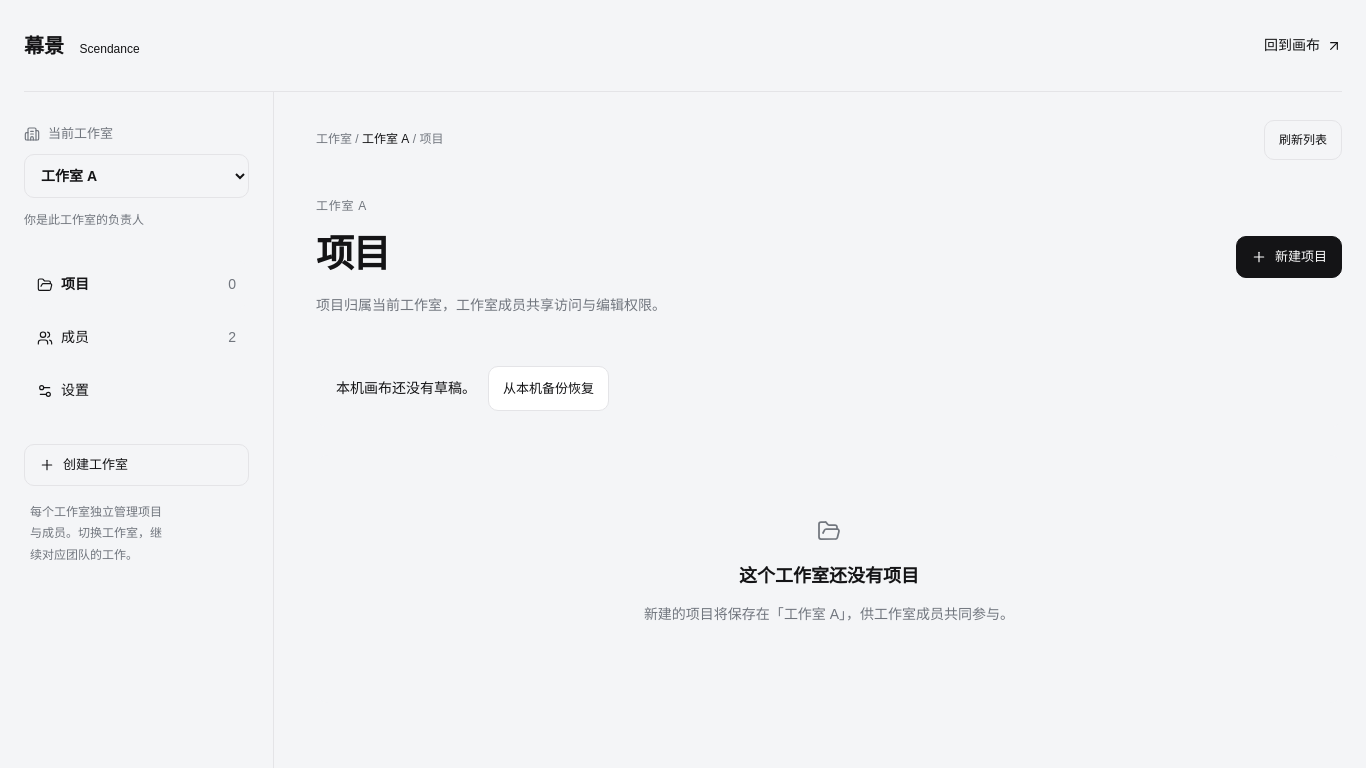
workspace management › selects an accessible studio before refreshing its member list
The width and height of the screenshot is (1366, 768).
Expected: the heading "这个工作室还没有项目" is shown, [739,566,919,586]
Click the button "刷新列表": (1303, 140) [1264,120,1342,160]
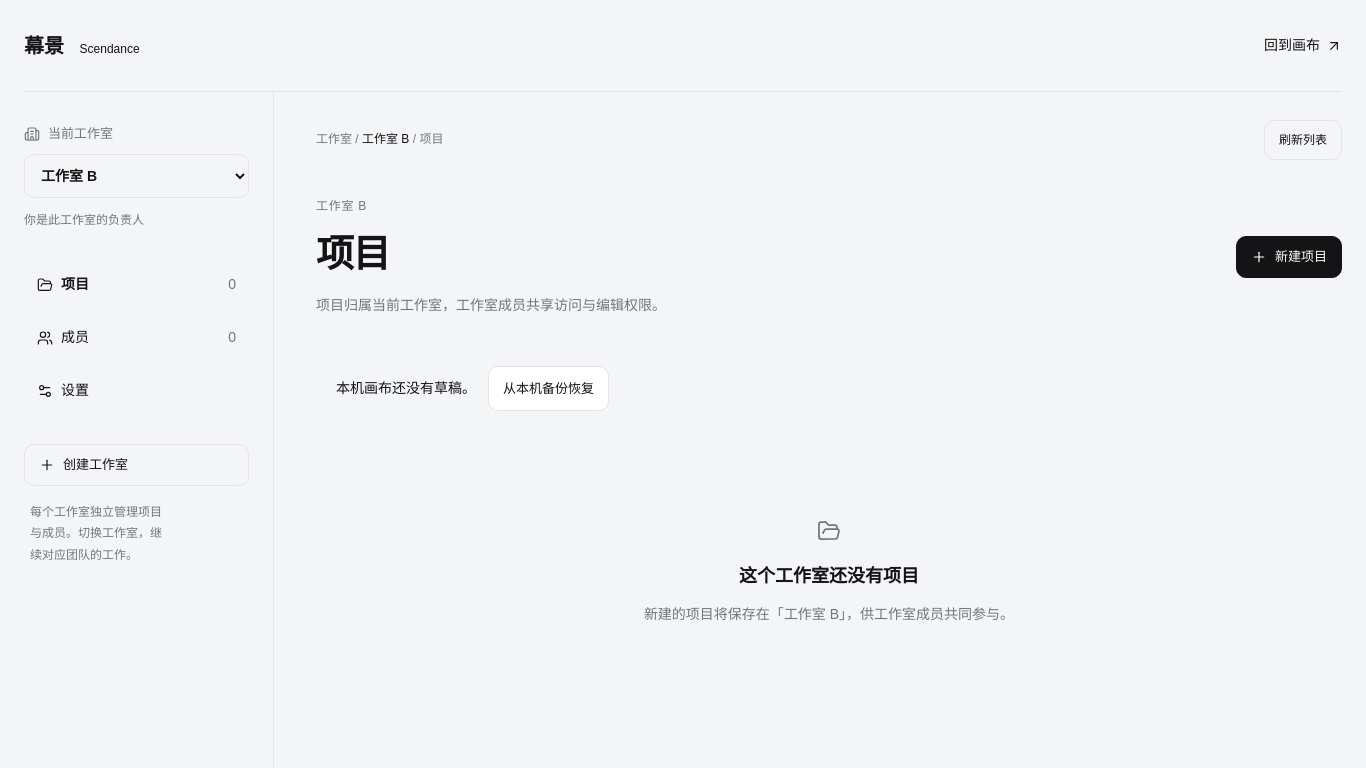
Expected: the heading "这个工作室还没有项目" is shown, [739,566,919,586]
Expected: the dropdown labelled "工作室" shows "工作室 B", [24,154,249,198]
